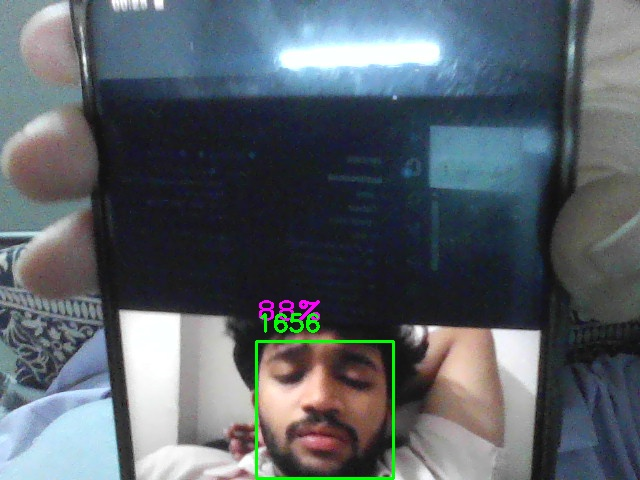fake: (256, 341, 394, 479)
